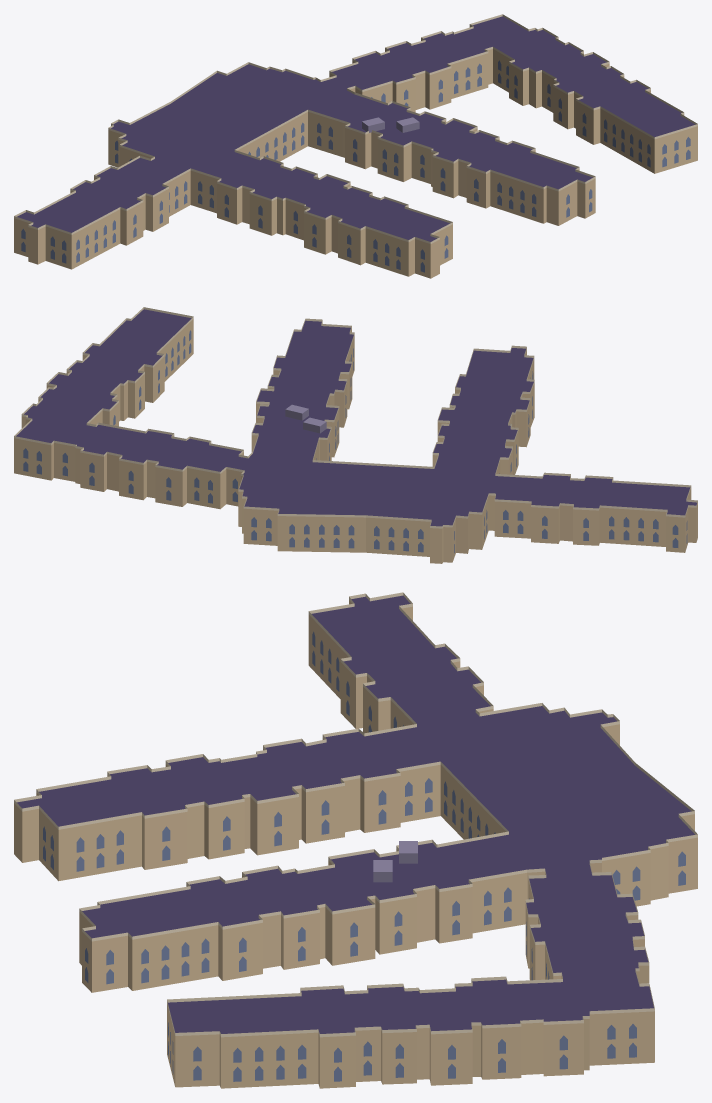
Rendered from b-051-day.glb.
3 renders of one model, top to bottom at view 1: azimuth 30°, elevation 25°; view 2: azimuth 150°, elevation 25°; view 3: azimuth 270°, elevation 25°, orthographic. The views are drawn at different scales.
Visible parts, largest first — view 1: campus/b-051-day-0; view 2: campus/b-051-day-0; view 3: campus/b-051-day-0.
Part boxes in pixels (x1,y1,x2,y2): campus/b-051-day-0: [14, 14, 697, 278]; campus/b-051-day-0: [14, 307, 697, 563]; campus/b-051-day-0: [14, 592, 697, 1088].
Size of the model in its own units: 164 by 10.7 by 107.
